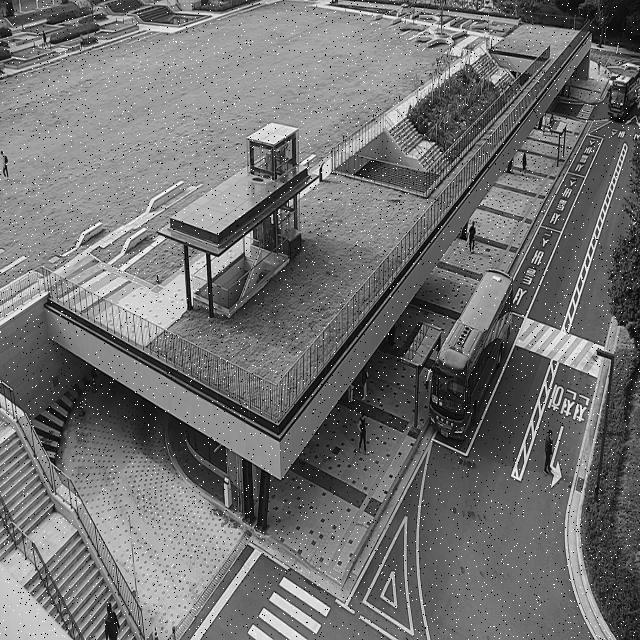queue: (411, 325, 443, 439)
